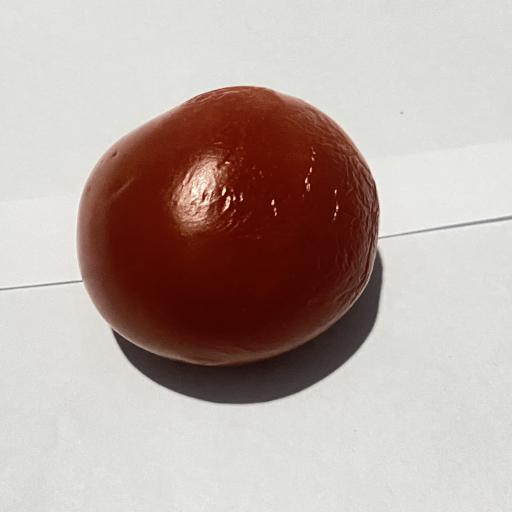spoiled: (78, 87, 379, 365)
